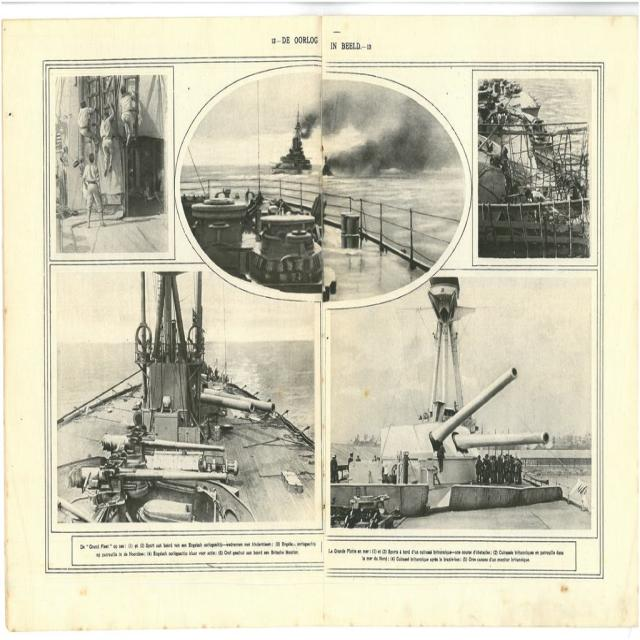Boat: (83, 243, 294, 555)
